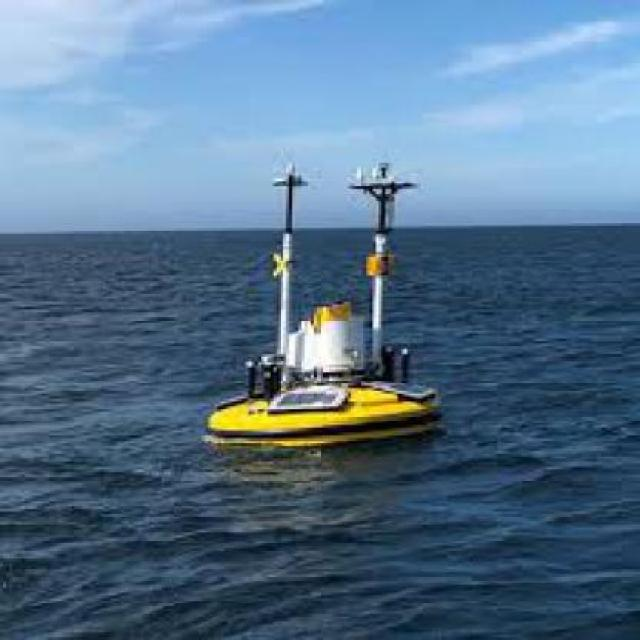buoy: (203, 153, 461, 455)
